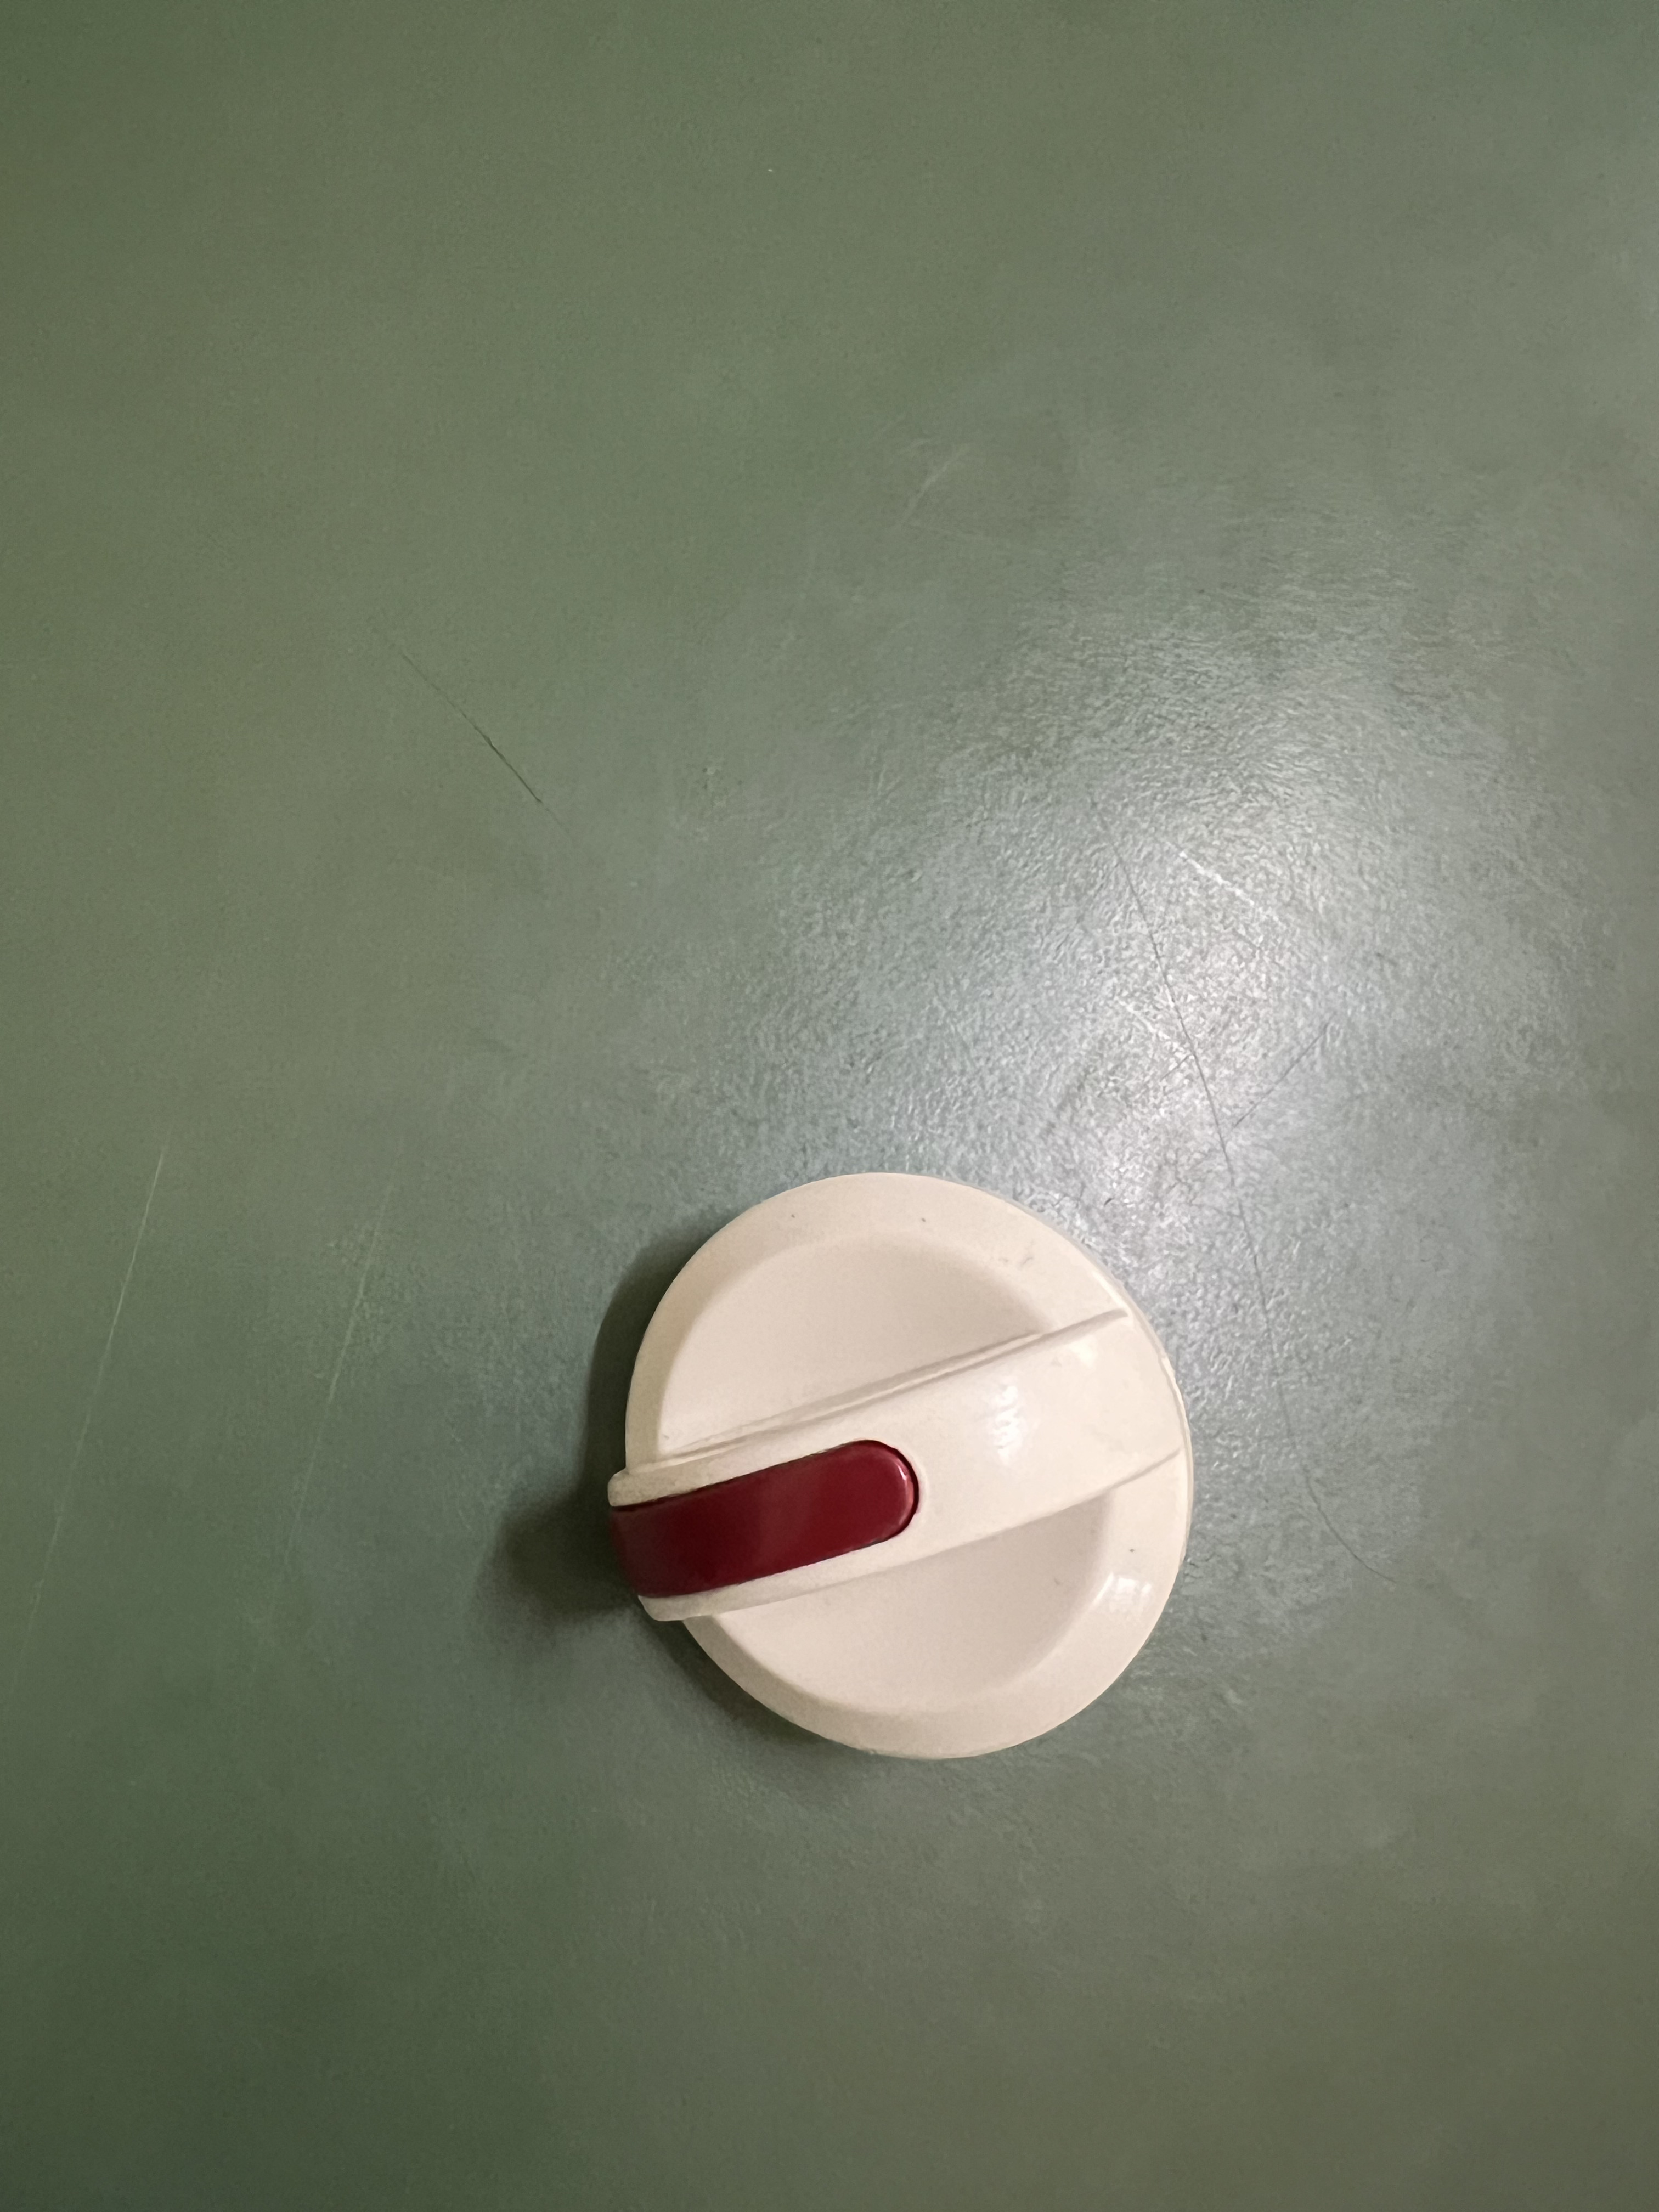regulator: (598, 1162, 1199, 1784)
